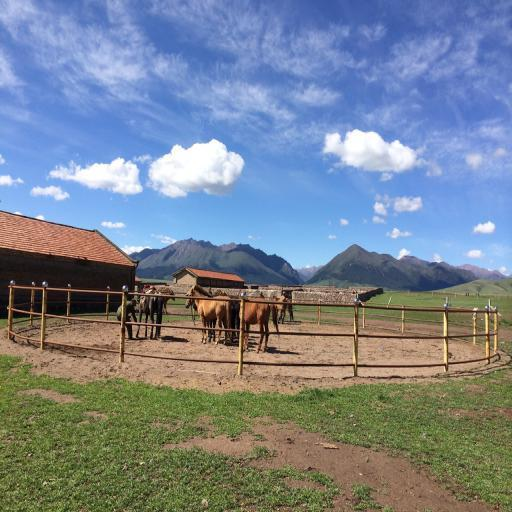horse: (186, 284, 284, 354), (134, 284, 164, 342), (270, 294, 294, 320), (161, 289, 177, 312)
